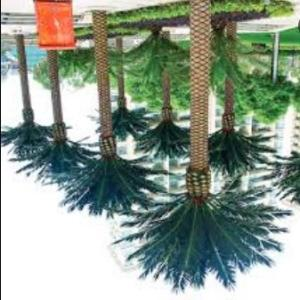palm tree: (0, 0, 299, 293)
